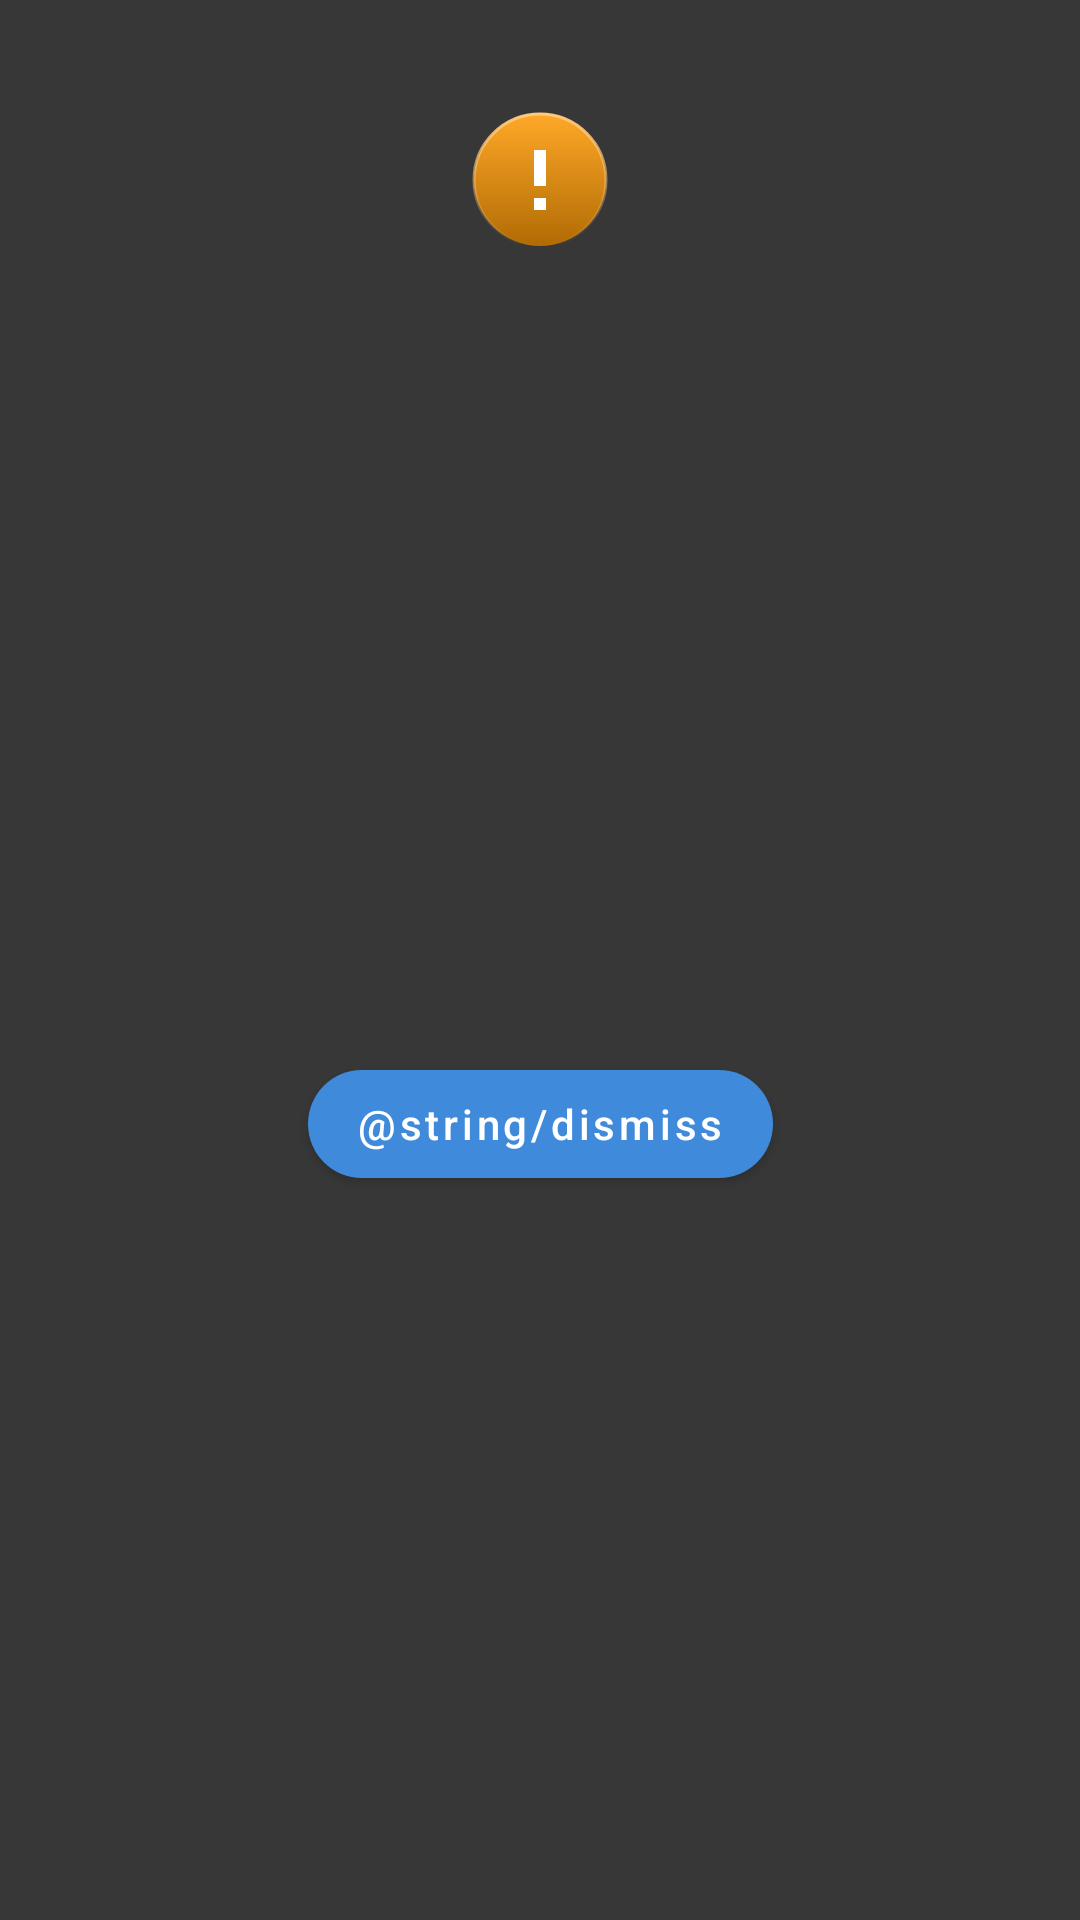

Icons on this 1080x1920 Android screen, each with its box as (x1, y1, x2, y2):
error: (472, 112, 608, 246)
